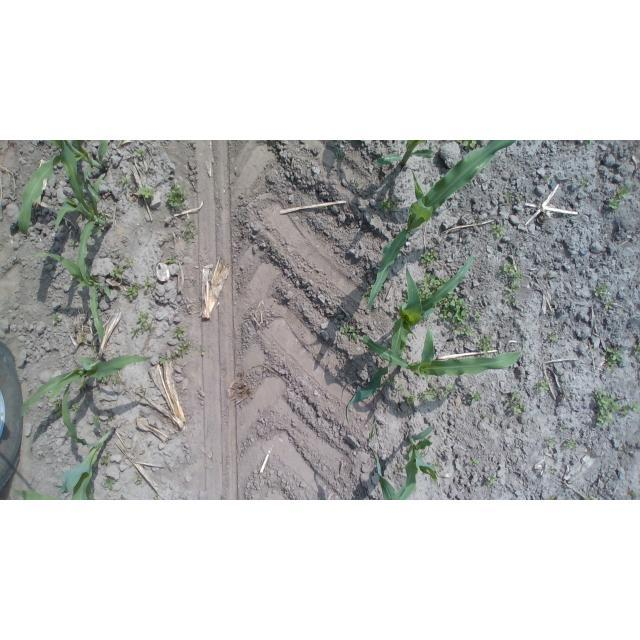Maize: (367, 140, 517, 308), (346, 247, 475, 423), (13, 382, 115, 500), (50, 141, 110, 288), (19, 140, 109, 237), (362, 328, 524, 380), (19, 356, 150, 417), (33, 251, 115, 346), (368, 419, 439, 500), (378, 140, 435, 168)
Weeds: (432, 290, 469, 326), (594, 390, 621, 426), (415, 274, 449, 302), (602, 347, 622, 371), (166, 185, 186, 209), (507, 391, 526, 414), (505, 271, 524, 292), (183, 219, 197, 245), (477, 334, 494, 354), (137, 311, 152, 331), (379, 197, 398, 212), (420, 250, 437, 266), (499, 260, 516, 276), (420, 388, 437, 404), (452, 327, 476, 338), (125, 282, 139, 300), (593, 285, 611, 298), (51, 398, 63, 417), (138, 186, 155, 198), (118, 173, 131, 187), (110, 266, 124, 279), (492, 224, 505, 238), (562, 440, 578, 451), (616, 186, 629, 199), (536, 380, 549, 393), (142, 278, 156, 290), (457, 140, 477, 148), (608, 198, 620, 211), (470, 390, 483, 402), (177, 343, 189, 356), (103, 478, 115, 491), (173, 326, 185, 338), (349, 329, 360, 341), (363, 284, 373, 296), (545, 438, 555, 449), (432, 460, 443, 470), (407, 394, 416, 406), (486, 476, 497, 485), (419, 447, 428, 458), (101, 453, 110, 464), (402, 288, 409, 302), (622, 405, 630, 417), (631, 401, 640, 411), (72, 403, 81, 413), (503, 194, 511, 205), (633, 342, 640, 354), (53, 315, 62, 324), (136, 149, 145, 158), (131, 328, 140, 337), (340, 326, 348, 336), (420, 316, 430, 324), (387, 377, 397, 385), (98, 376, 109, 383), (604, 301, 613, 309), (549, 332, 557, 341), (112, 376, 120, 385), (86, 196, 93, 206), (124, 258, 132, 266), (168, 354, 176, 362), (580, 178, 589, 185), (474, 312, 481, 321), (446, 385, 455, 392), (470, 458, 479, 465), (397, 385, 403, 395), (103, 162, 110, 170), (100, 212, 107, 220), (502, 296, 510, 303), (135, 476, 142, 484), (439, 391, 448, 397), (159, 355, 165, 364), (80, 382, 87, 389), (548, 467, 556, 473), (166, 257, 174, 263), (335, 152, 342, 158), (544, 175, 550, 182), (559, 425, 565, 432), (513, 298, 518, 306), (584, 497, 596, 500), (80, 339, 87, 344), (70, 238, 77, 243), (379, 285, 384, 292), (119, 495, 126, 500), (95, 413, 100, 420), (586, 140, 594, 144), (520, 195, 524, 203), (548, 272, 553, 278), (93, 278, 99, 283), (478, 219, 483, 225), (202, 349, 206, 356), (589, 345, 594, 350), (483, 414, 488, 419), (95, 346, 98, 353), (140, 450, 145, 454), (154, 496, 158, 501), (108, 416, 113, 420), (619, 447, 625, 450), (560, 394, 564, 398), (631, 492, 635, 496), (87, 245, 89, 251), (357, 182, 360, 186), (315, 354, 318, 358), (142, 393, 145, 396), (360, 141, 364, 142)
